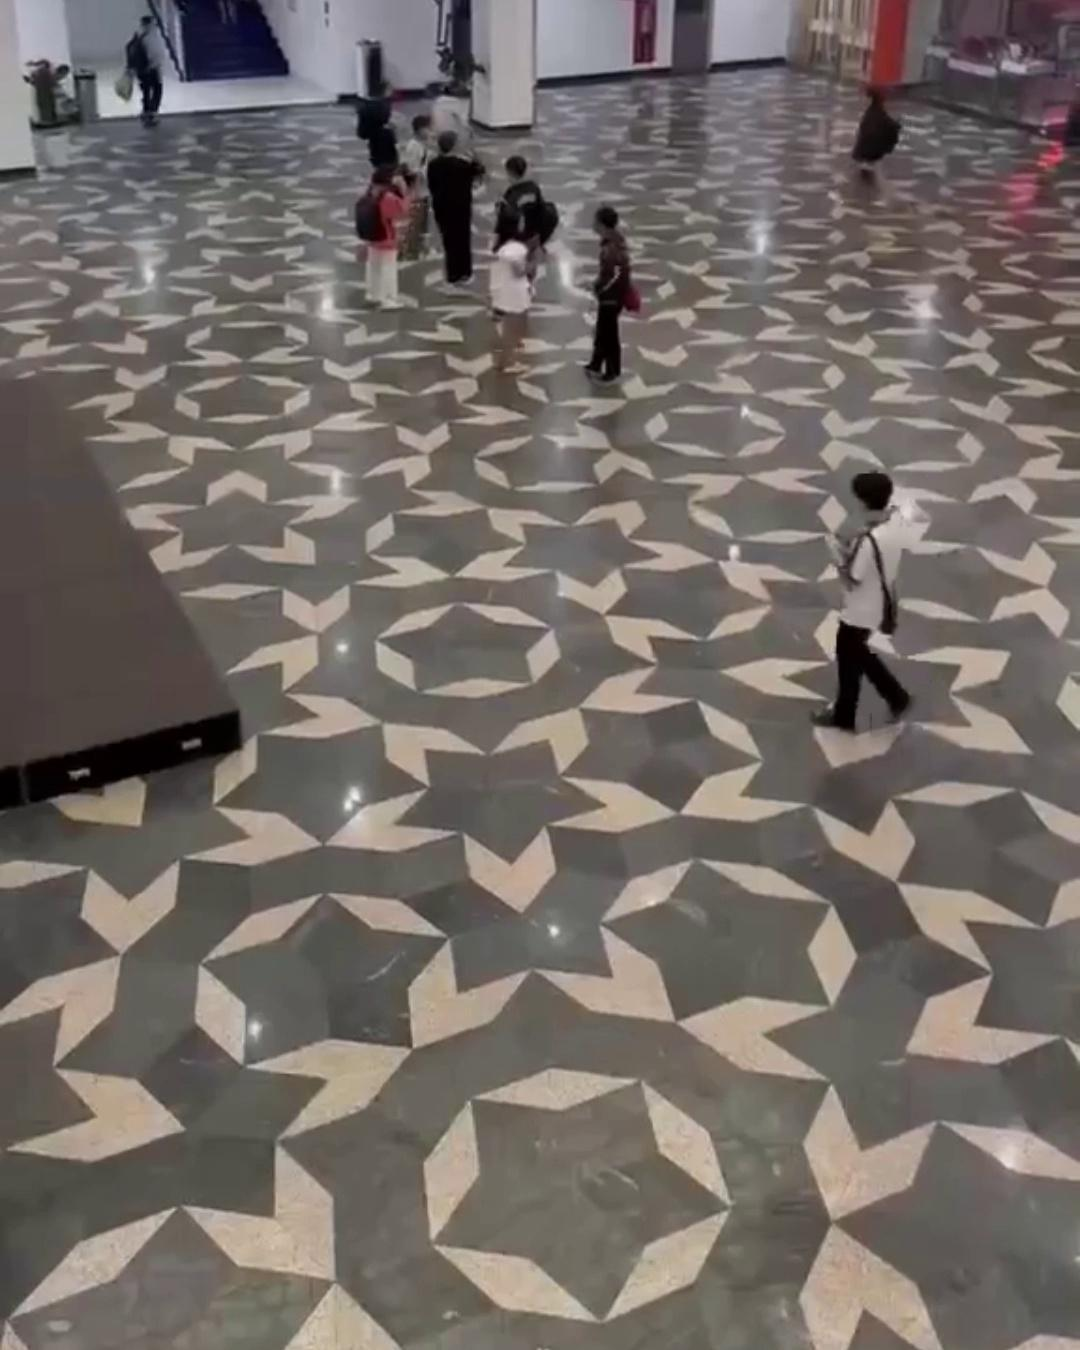your_class: (811, 473, 912, 731), (583, 206, 640, 382), (426, 131, 485, 285), (353, 164, 410, 313), (486, 209, 533, 376), (850, 86, 903, 204), (122, 14, 169, 129), (498, 155, 553, 250), (402, 112, 434, 258), (355, 80, 399, 170)
